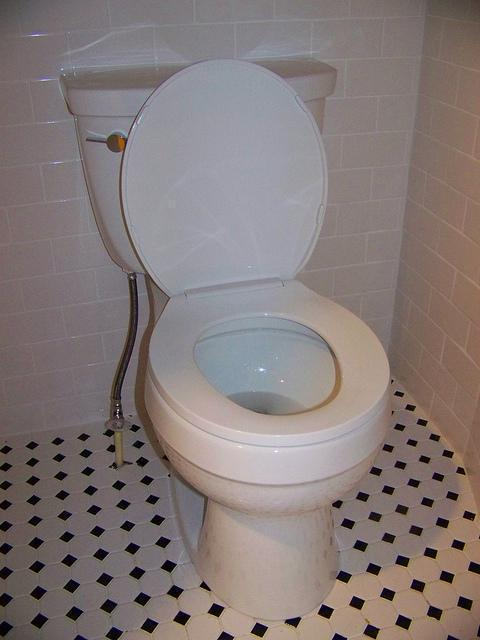Sanitario: (58, 51, 393, 625)
